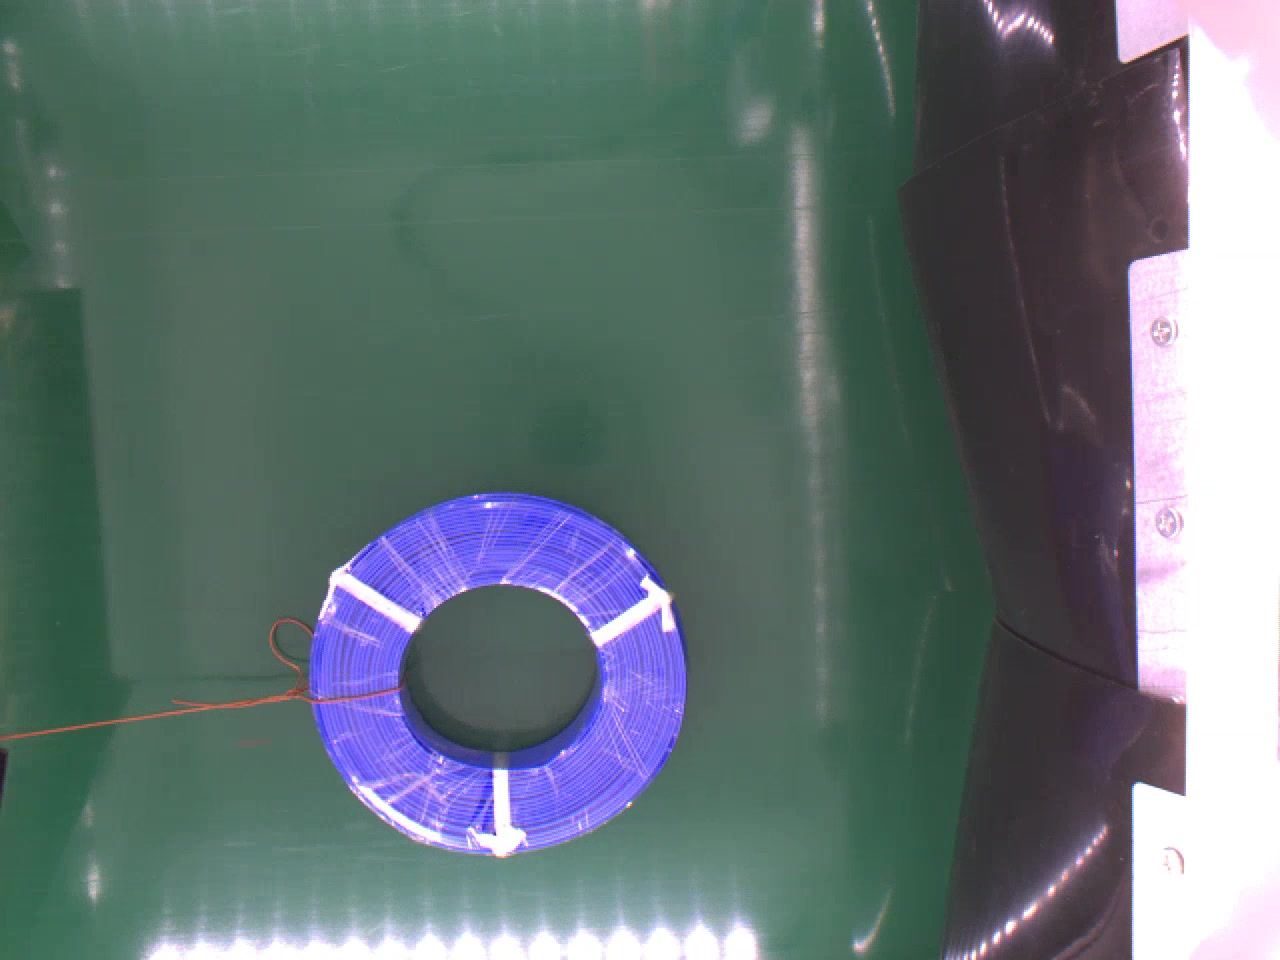blue: (305, 492, 685, 857)
